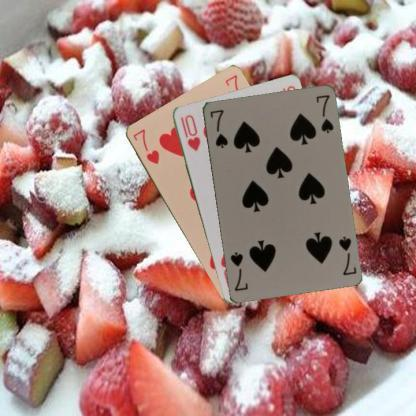10h: (177, 112, 202, 152)
7h: (130, 126, 161, 166)
7s: (207, 106, 229, 149), (336, 234, 358, 276)
